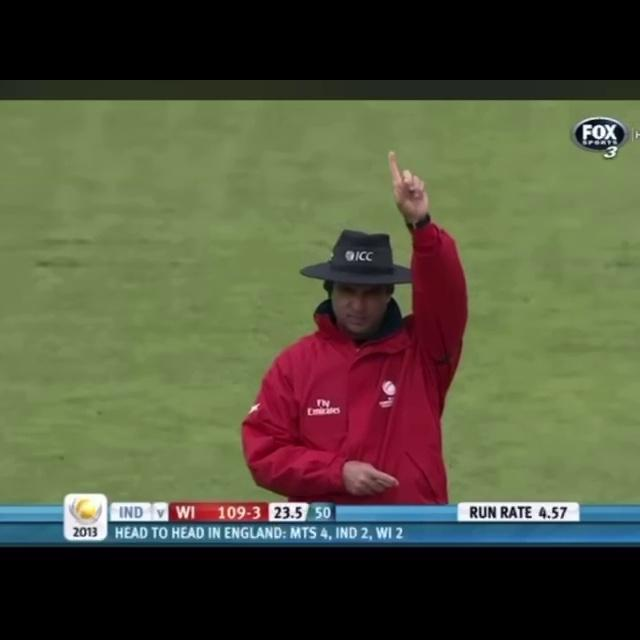umpire: (237, 139, 485, 501)
